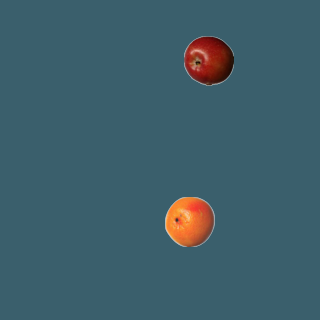Apple Braeburn: (183, 35, 233, 85)
Grapefruit Pink: (164, 196, 214, 246)
